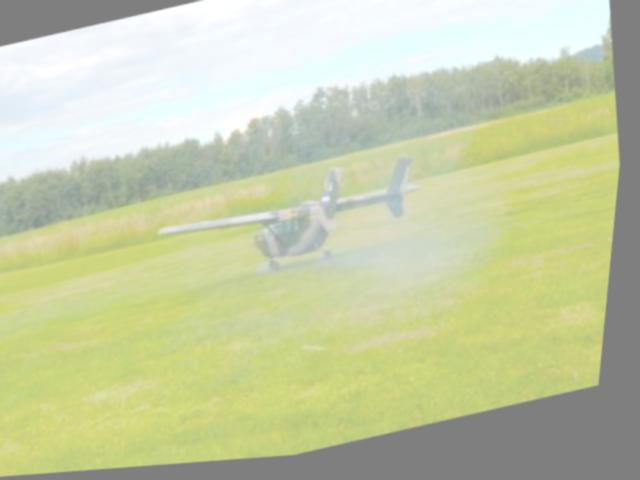uav: (152, 148, 443, 302)
